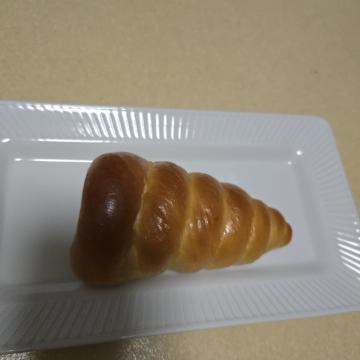cream horn: (146, 56, 310, 300)
